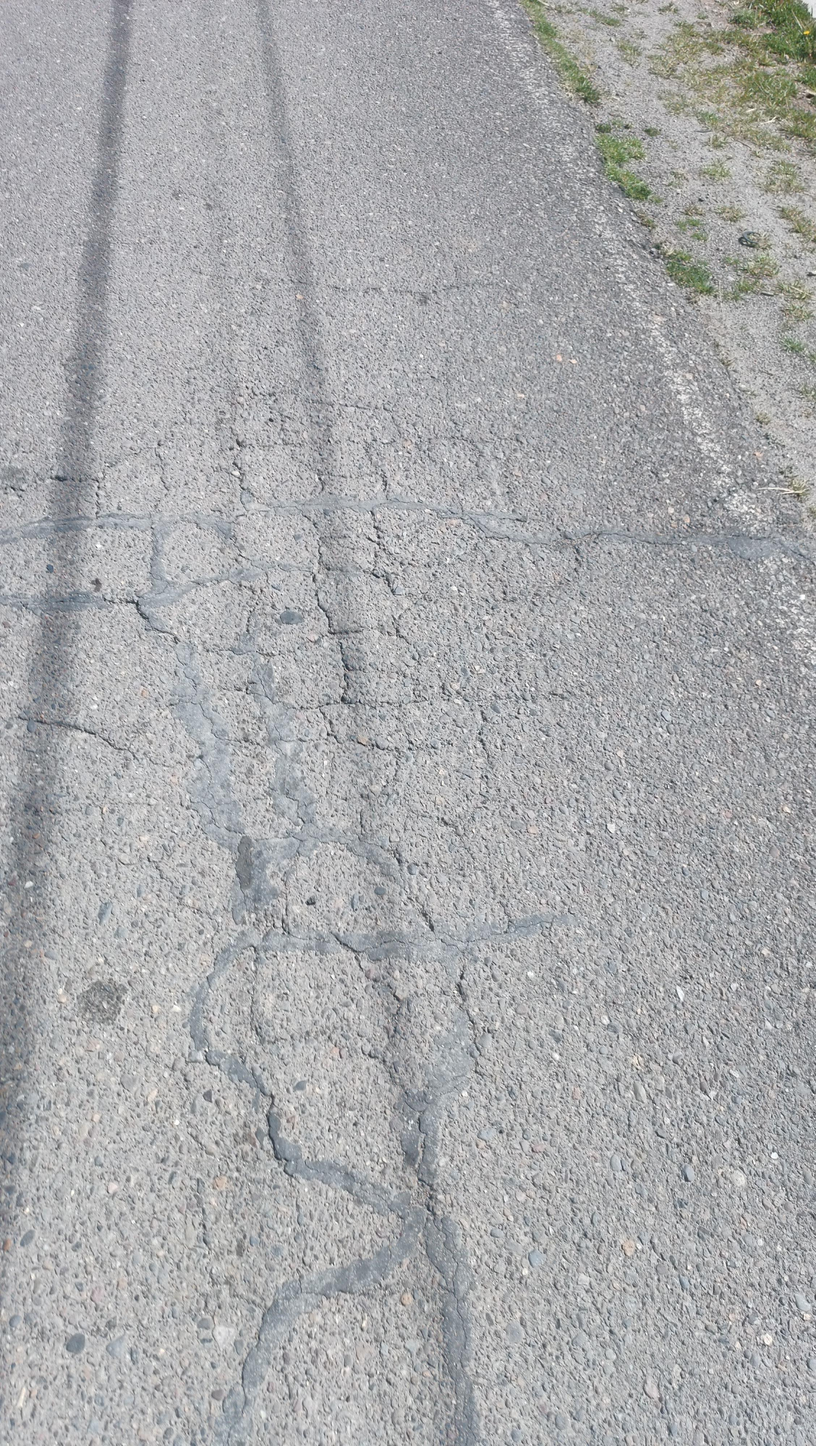GRIETA: (16, 716, 111, 745), (9, 477, 93, 499), (598, 533, 698, 547), (789, 548, 816, 567)
PIEL DE COCODRILO: (88, 386, 592, 1315)
